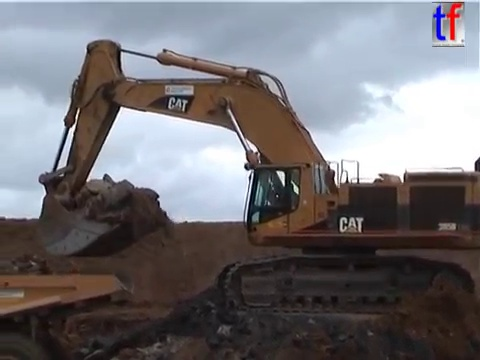excavator: (33, 34, 480, 320)
truck: (1, 267, 138, 360)
